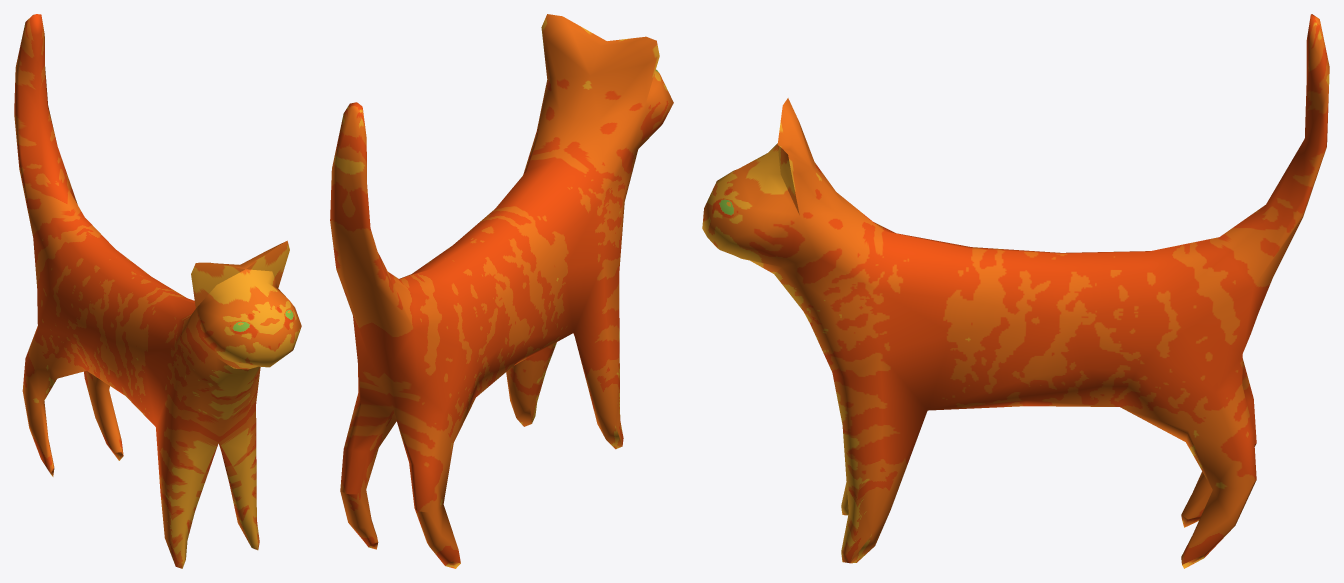
File: cat.glb
3 renders of one model, left to right at view 1: azimuth 30°, elevation 25°; view 2: azimuth 150°, elevation 25°; view 3: azimuth 270°, elevation 25°, orthographic. The views are drawn at different scales.
Parts seen in each view (by area): view 1: cat; view 2: cat; view 3: cat.
Boxes of the visible parts, bbox=[...] form: cat: bbox=[14, 14, 301, 568]; cat: bbox=[330, 14, 673, 568]; cat: bbox=[702, 14, 1329, 568].
Size of the model in its own units: 0.5677 by 2.3 by 2.44.
Materials: 1 (1 with a texture image).
